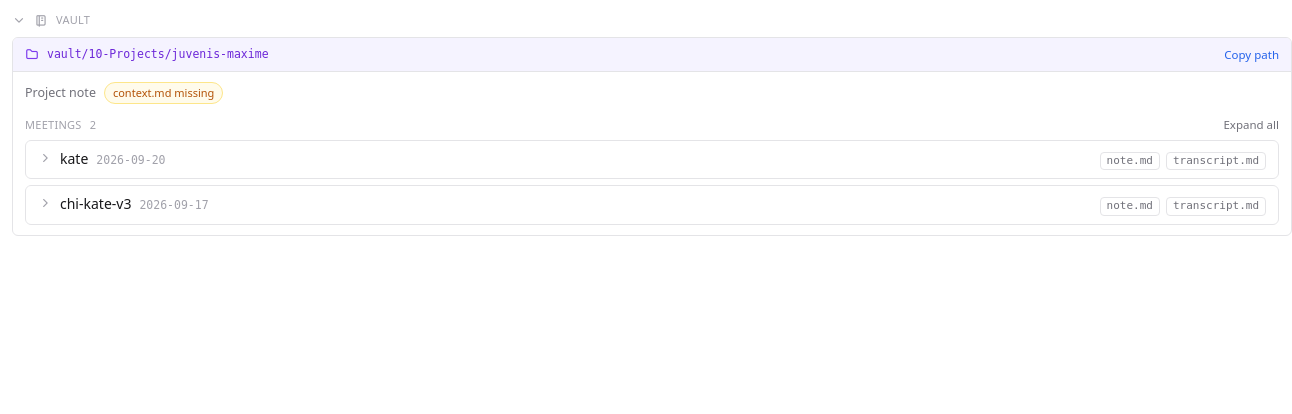
Scenario: collapse and expand › Expand all opens every meeting, and the label follows the state it produced
Click the button with test id "vault-expand-all" at (1251, 125), box [1223,116,1279,134]
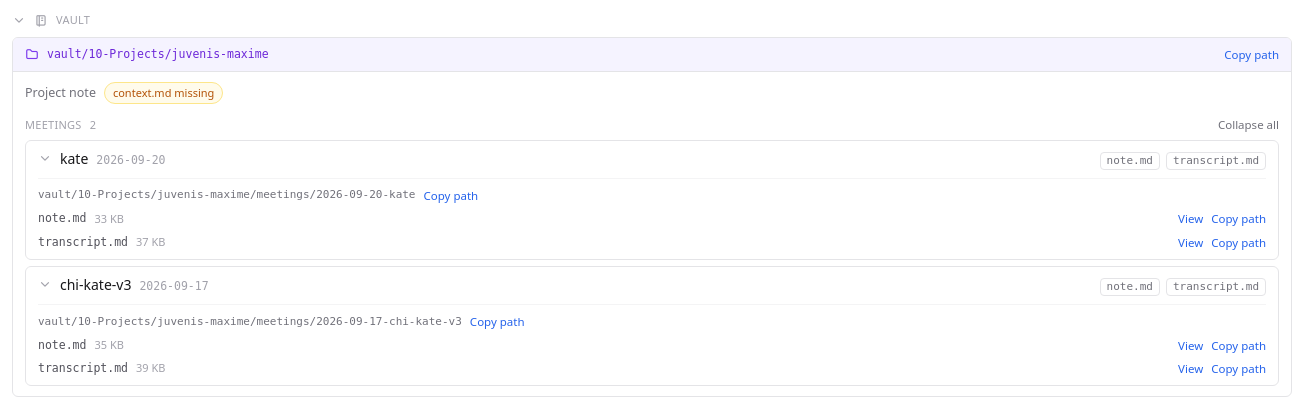
Check: the button "Collapse all" is shown
Click the button "Collapse all" at (1248, 125), box [1218,116,1279,134]
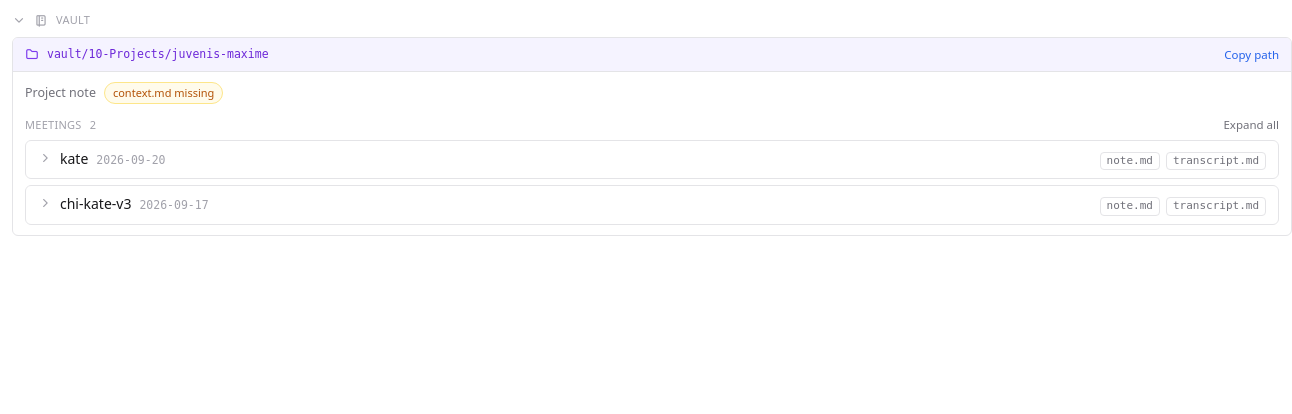
Check: the button with test id "vault-expand-all" reads "Expand all", box [1223,116,1279,134]
